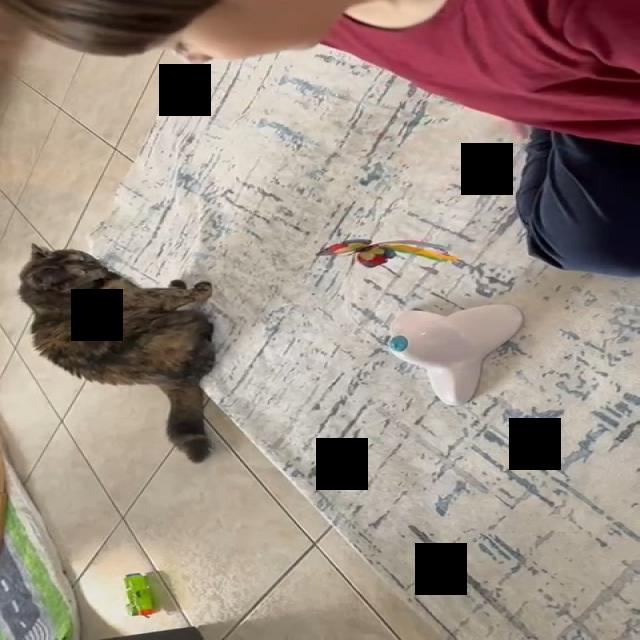authorized: (16, 242, 217, 463)
